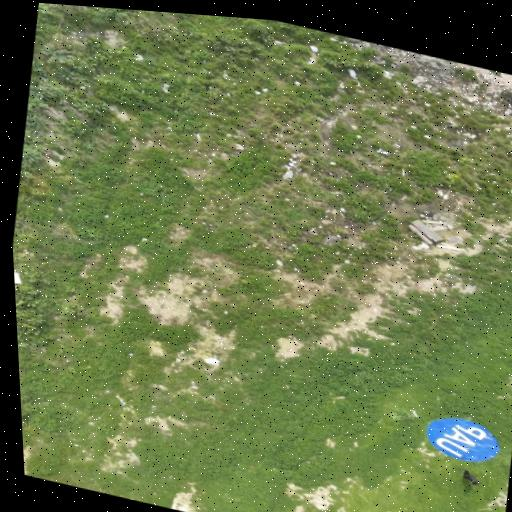person: (463, 471, 479, 485)
uap: (425, 417, 498, 461)
